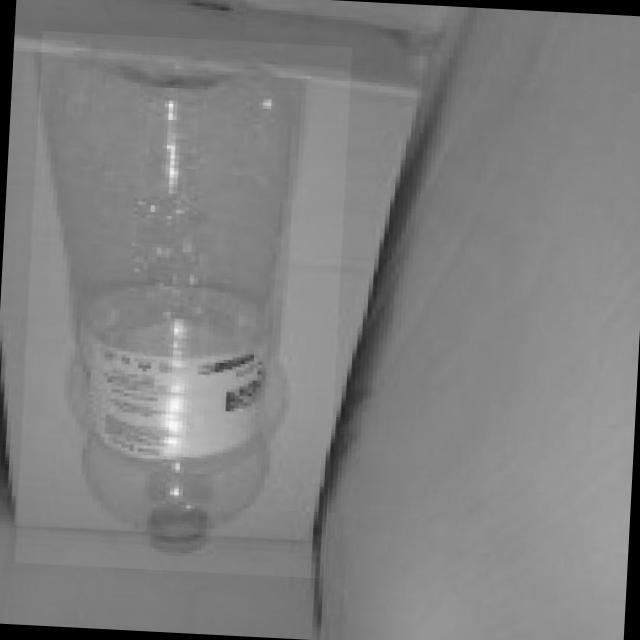good: (15, 31, 352, 578)
